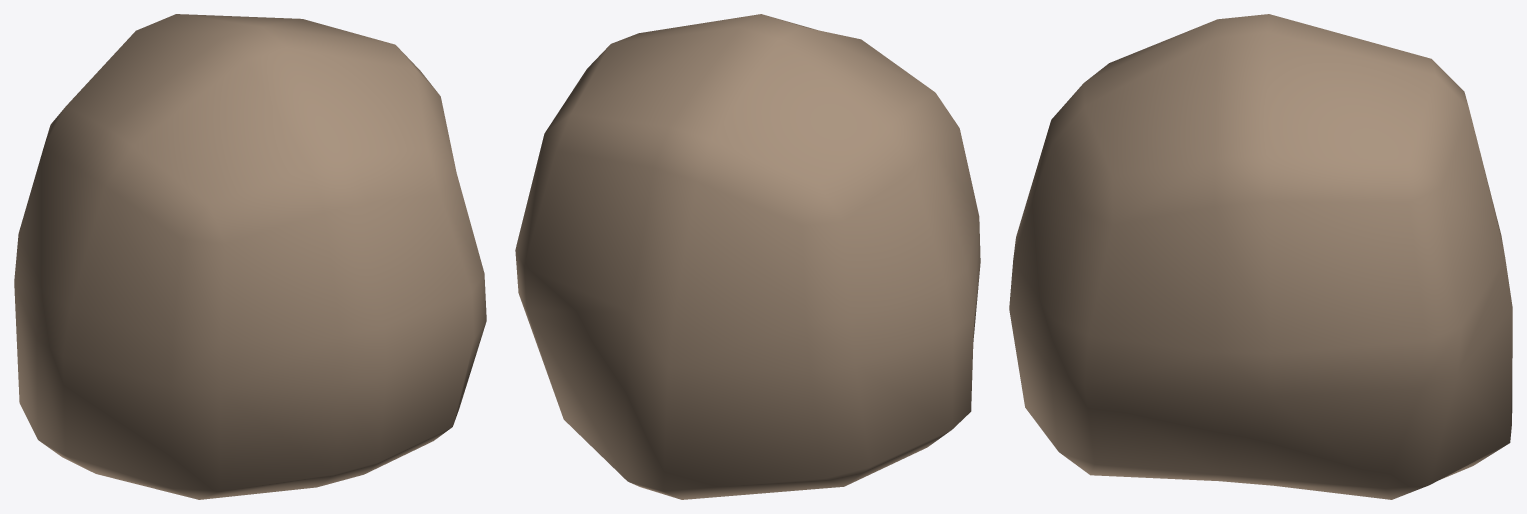
File: Rock_Small_1.fbx
3 views of the same model, side by side, from view 1: azimuth 30°, elevation 25°; view 2: azimuth 150°, elevation 25°; view 3: azimuth 270°, elevation 25° (orthographic). The views are drawn at different scales.
Visible parts, largest first — view 1: RockSmall_1; view 2: RockSmall_1; view 3: RockSmall_1.
Part boxes in pixels (box(x1,y1,x2,y2)): RockSmall_1: box(14, 14, 486, 499); RockSmall_1: box(515, 14, 980, 499); RockSmall_1: box(1009, 14, 1512, 499).
Size of the model in its own units: 1.77 by 1.71 by 1.81.
